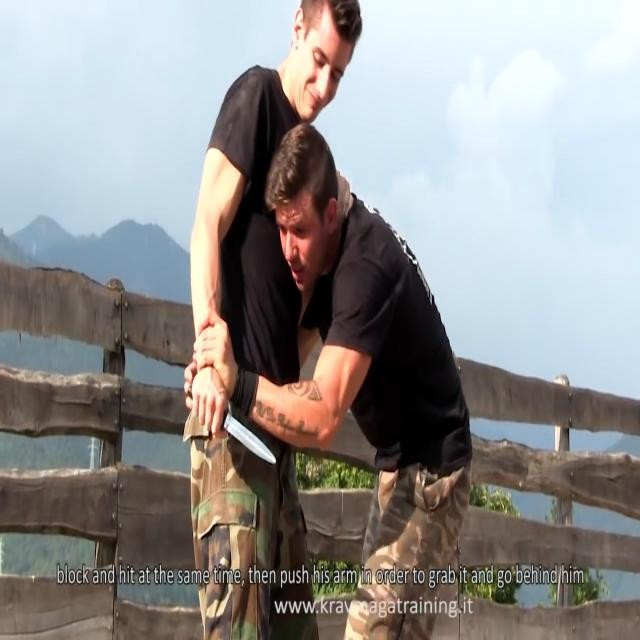knife: (220, 409, 282, 469)
